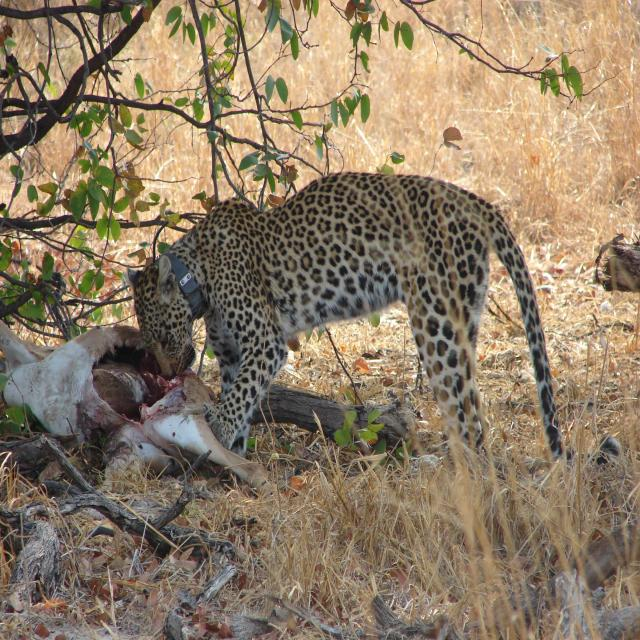Leopard: (134, 165, 587, 486)
